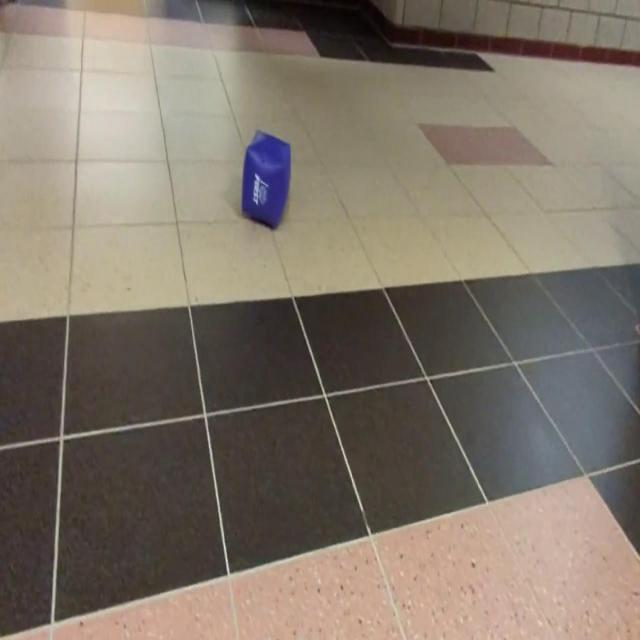frc_cube: (242, 132, 290, 228)
